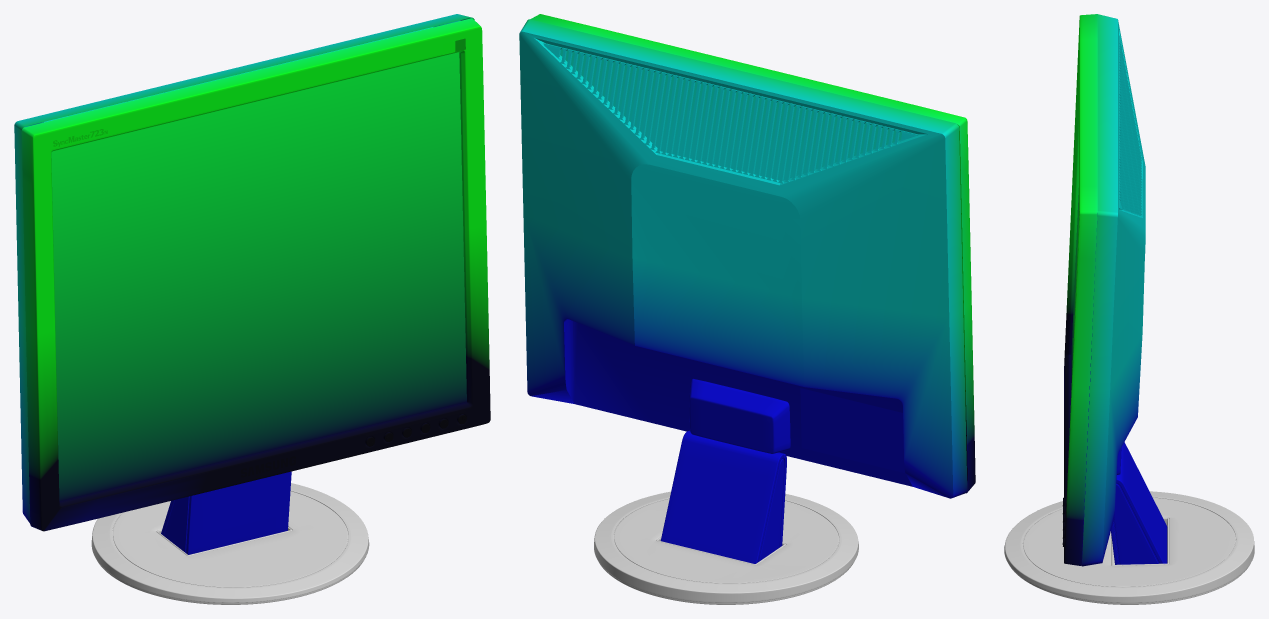
Rendered from Monitor_SyncMaster723n_FBX.FBX.
3 renders of one model, left to right at view 1: azimuth 30°, elevation 25°; view 2: azimuth 150°, elevation 25°; view 3: azimuth 270°, elevation 25°, orthographic. The views are drawn at different scales.
Parts seen in each view (by area): view 1: Object008, Object04, Object02, Object03; view 2: Object03, Object02, Object05, Object04, Object01; view 3: Object02, Object03, Object04, Object05, Object008.
Boxes of the visible parts, x1,y1,x2,y2 form: Object008: (51, 52, 466, 501); Object04: (21, 18, 490, 531); Object02: (91, 471, 369, 604); Object03: (14, 14, 474, 523); Object03: (519, 19, 967, 498); Object02: (594, 378, 858, 604); Object05: (543, 43, 918, 183); Object04: (530, 14, 975, 493); Object01: (800, 388, 905, 472); Object02: (1004, 442, 1254, 604); Object03: (1082, 14, 1145, 566); Object04: (1064, 14, 1097, 565); Object05: (1119, 35, 1142, 217); Object008: (1071, 188, 1078, 389).
Size of what is drawn, in the model's own units: 37.06 by 38.1 by 19.66.
